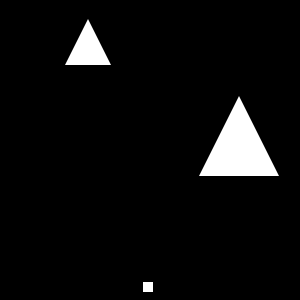circle: (143, 282, 153, 292)
triangle: (199, 96, 279, 176), (65, 19, 111, 65)
